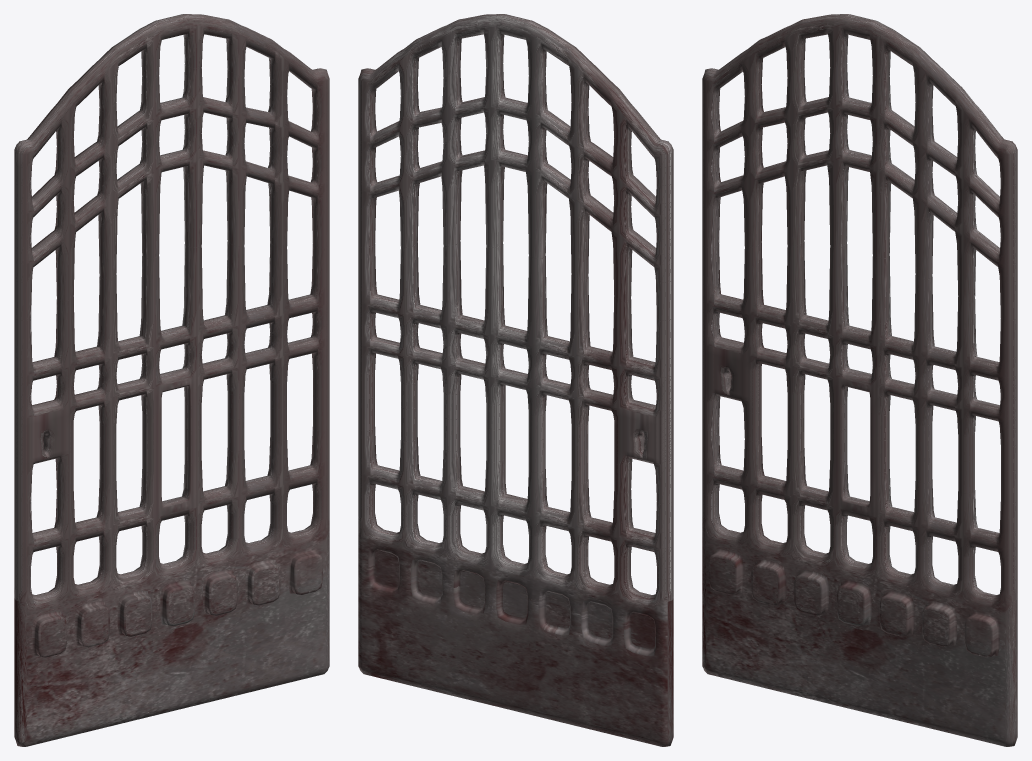
Rendered from Gate.fbx.
The picture shows the model from 3 angles, left to right: view 1: azimuth 30°, elevation 25°; view 2: azimuth 150°, elevation 25°; view 3: azimuth 330°, elevation 25°; orthographic projection.
Parts seen in each view (by area): view 1: pCube1; view 2: pCube1; view 3: pCube1.
Boxes of the visible parts, x1,y1,x2,y2 form: pCube1: (14,14,329,746); pCube1: (358,14,673,746); pCube1: (702,14,1017,746).
Size of the model in its own units: 2.21 by 4.69 by 0.1648.
